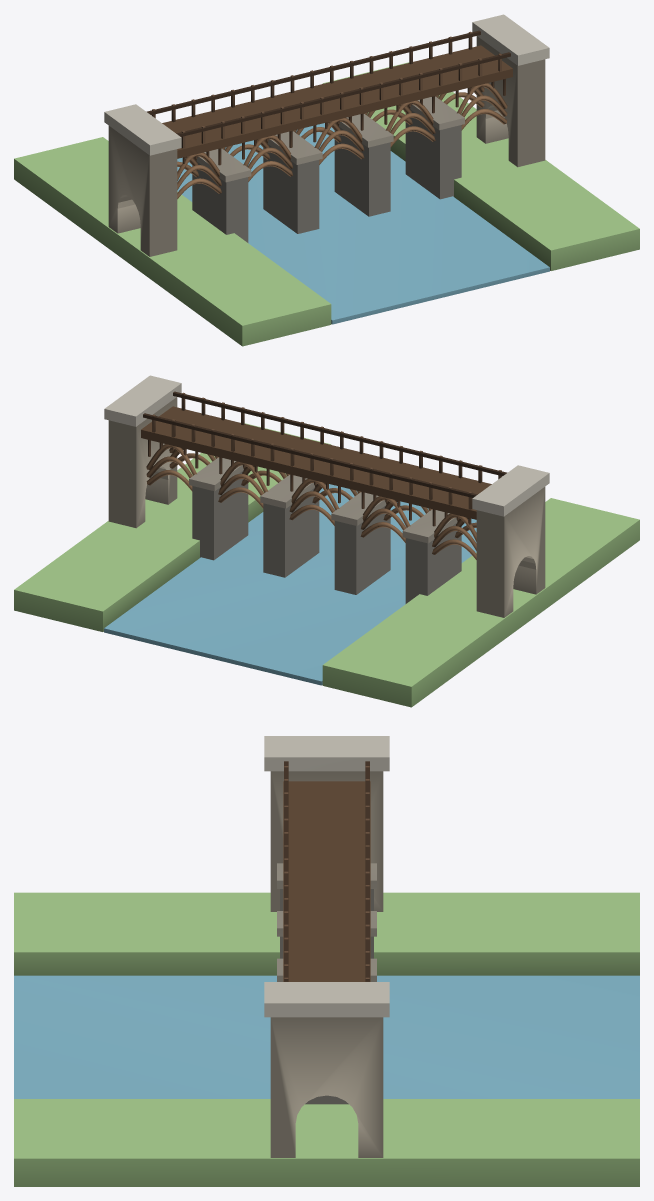
File: drobeta.glb
The picture shows the model from 3 angles, top to bottom: view 1: azimuth 30°, elevation 25°; view 2: azimuth 150°, elevation 25°; view 3: azimuth 270°, elevation 25°; orthographic projection. The views are drawn at different scales.
Visible parts, largest first — view 1: drobeta_grass, drobeta_water, drobeta_stoneGray, drobeta_wood, drobeta_stone, drobeta_woodDark, drobeta_stoneDark; view 2: drobeta_grass, drobeta_water, drobeta_stoneGray, drobeta_wood, drobeta_stone, drobeta_woodDark, drobeta_stoneDark; view 3: drobeta_grass, drobeta_water, drobeta_stone, drobeta_wood, drobeta_stoneGray, drobeta_woodDark, drobeta_stoneDark.
Boxes of the visible parts, x1,y1,x2,y2 form: drobeta_grass: [14, 62, 639, 346]; drobeta_water: [177, 123, 549, 324]; drobeta_stoneGray: [104, 14, 549, 242]; drobeta_wood: [162, 45, 512, 198]; drobeta_stone: [108, 36, 545, 256]; drobeta_woodDark: [146, 30, 510, 165]; drobeta_stoneDark: [196, 96, 464, 182]; drobeta_grass: [14, 423, 639, 707]; drobeta_water: [104, 484, 476, 685]; drobeta_stoneGray: [104, 375, 549, 603]; drobeta_wood: [141, 406, 491, 559]; drobeta_stone: [108, 397, 545, 617]; drobeta_woodDark: [143, 391, 507, 526]; drobeta_stoneDark: [189, 457, 457, 543]; drobeta_grass: [14, 892, 639, 1186]; drobeta_water: [14, 975, 639, 1098]; drobeta_stone: [270, 771, 383, 1157]; drobeta_wood: [283, 781, 370, 981]; drobeta_stoneGray: [264, 736, 389, 1104]; drobeta_woodDark: [284, 761, 369, 981]; drobeta_stoneDark: [277, 863, 376, 981].
Size of the model in its own units: 2.02 by 0.65 by 2.
